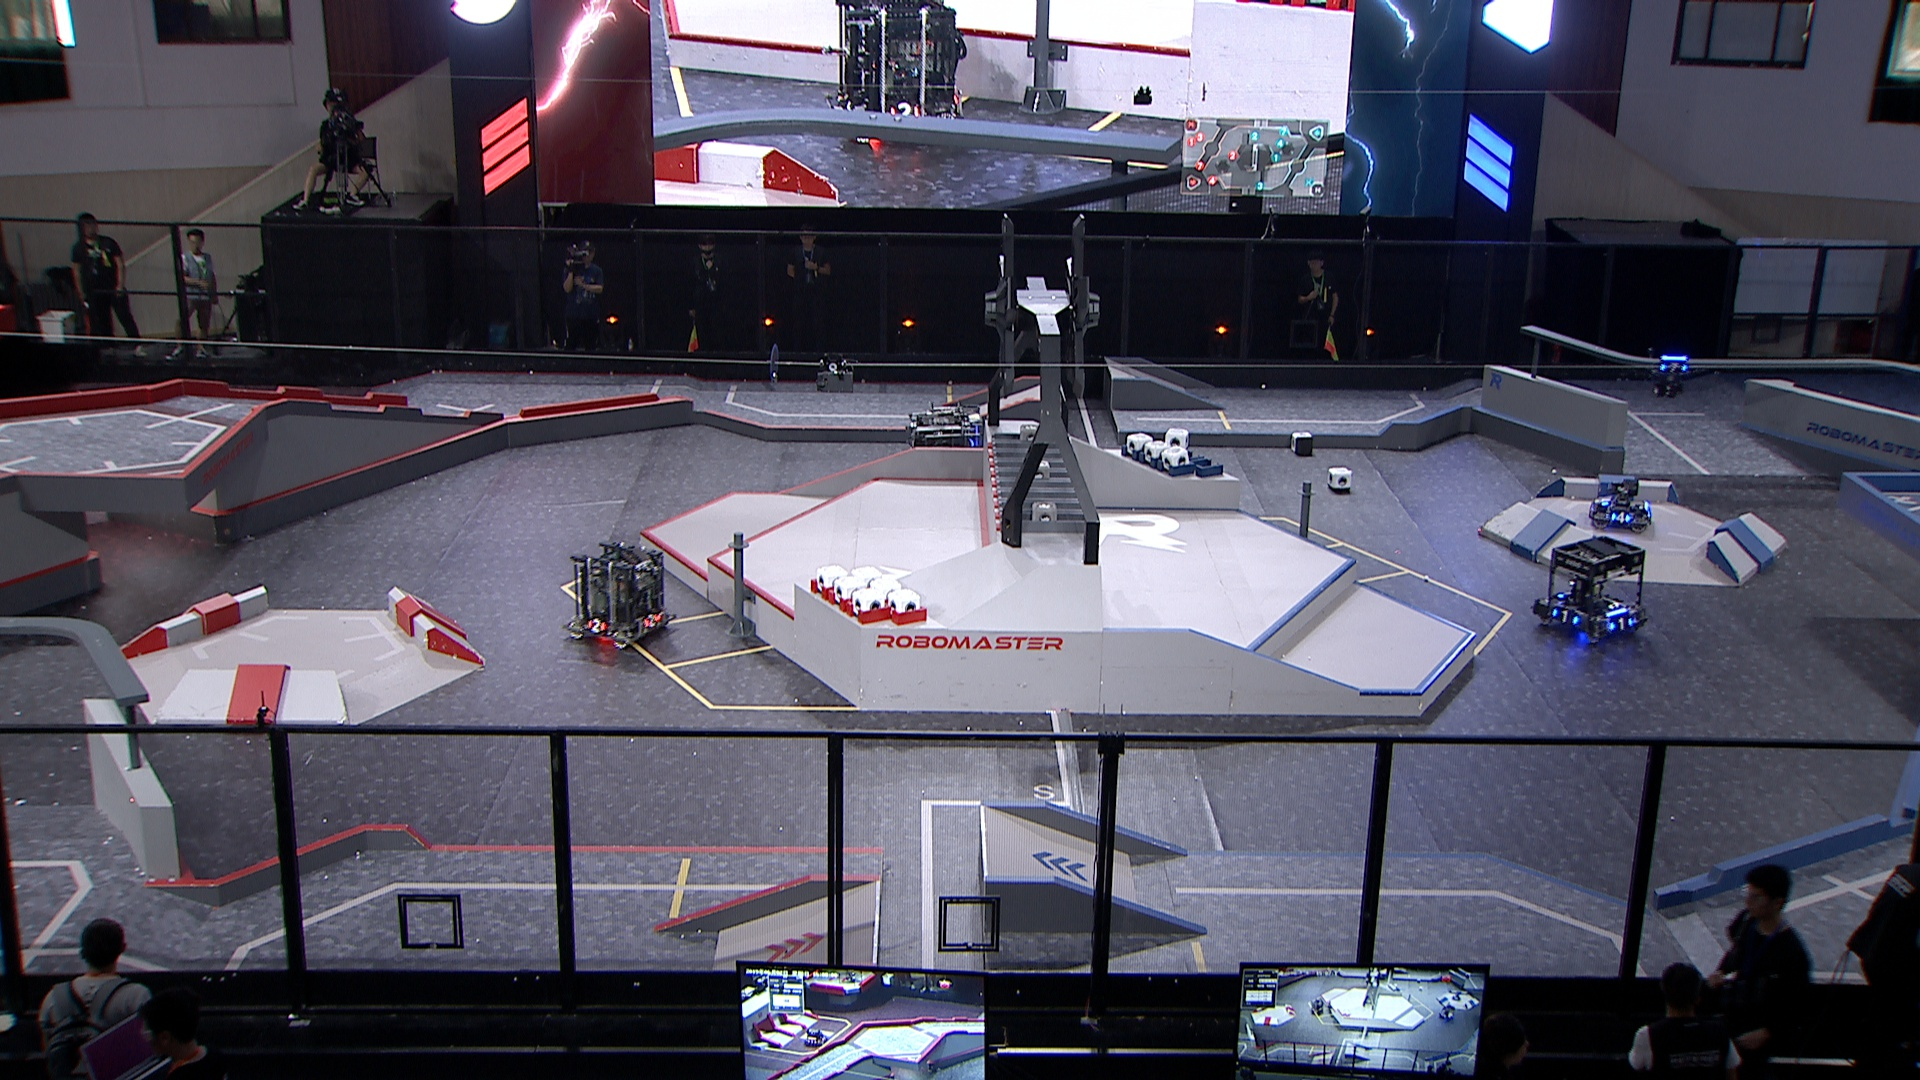armor: (1551, 607, 1580, 626), (640, 611, 661, 632), (1607, 616, 1633, 633), (584, 617, 607, 636), (1610, 510, 1633, 526), (1660, 363, 1688, 373)
car: (1528, 535, 1648, 645), (558, 541, 676, 650), (902, 404, 984, 485), (1588, 476, 1654, 534)
watcher: (1644, 349, 1692, 400)
